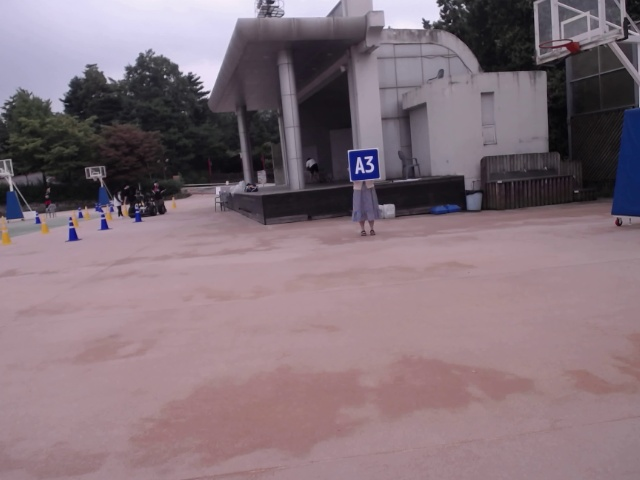delivery_a3: (348, 148, 381, 182)
